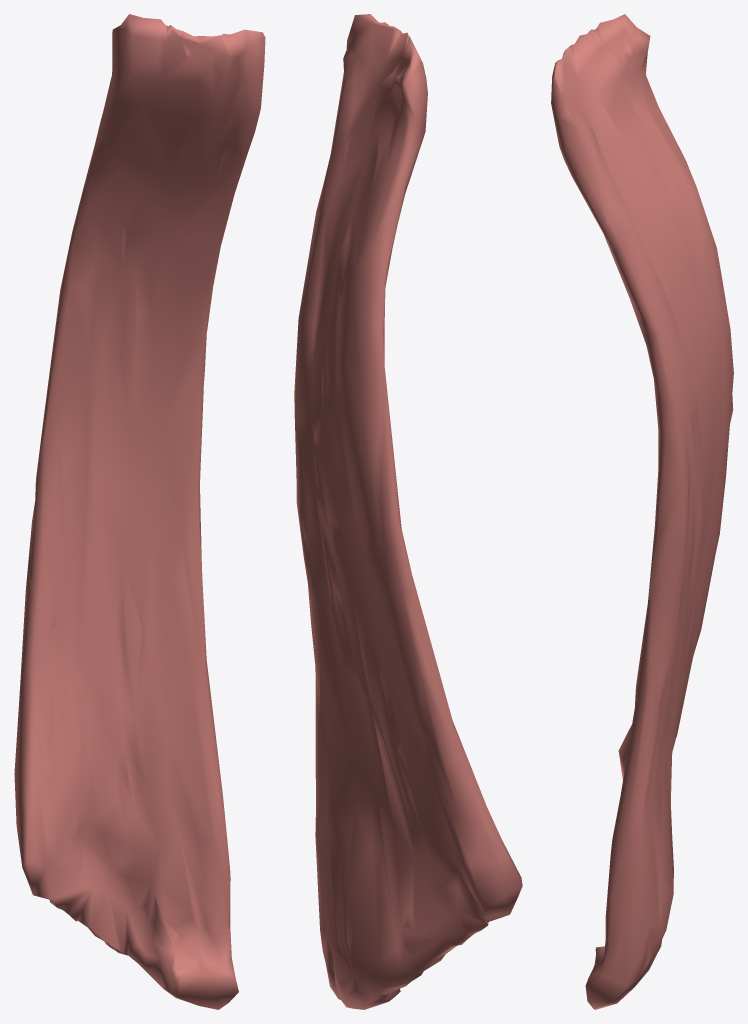
3 views of the same model, side by side, from view 1: azimuth 30°, elevation 25°; view 2: azimuth 150°, elevation 25°; view 3: azimuth 270°, elevation 25° (orthographic). The views are drawn at different scales.
Visible parts, largest first — view 1: ZA_ca2dd6808be68e5e; view 2: ZA_ca2dd6808be68e5e; view 3: ZA_ca2dd6808be68e5e.
Part boxes in pixels (bbox=[...]): ZA_ca2dd6808be68e5e: bbox=[14, 14, 265, 1009]; ZA_ca2dd6808be68e5e: bbox=[294, 14, 522, 1009]; ZA_ca2dd6808be68e5e: bbox=[551, 14, 733, 1009].
Size of the model in its own units: 0.0238 by 0.1081 by 0.0186.
